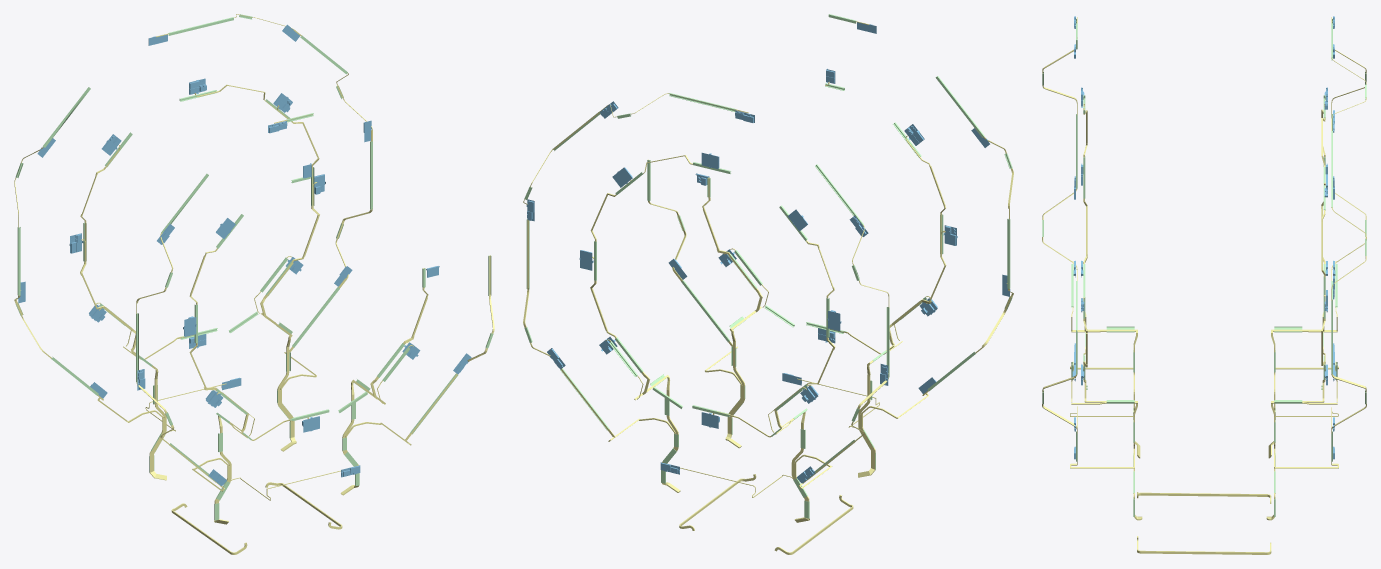
The model's file is MSPatchPannel-cut4.glb.
3 views of the same model, side by side, from view 1: azimuth 30°, elevation 25°; view 2: azimuth 150°, elevation 25°; view 3: azimuth 270°, elevation 25° (orthographic). The views are drawn at different scales.
Parts seen in each view (by area): view 1: _00000207802AF3B0_IndexedFaceSet, _00000207802A7C40_IndexedFaceSet, _0000020780176150_IndexedFaceSet; view 2: _00000207802AF3B0_IndexedFaceSet, _00000207802A7C40_IndexedFaceSet, _0000020780176150_IndexedFaceSet; view 3: _00000207802AF3B0_IndexedFaceSet, _00000207802A7C40_IndexedFaceSet, _0000020780176150_IndexedFaceSet.
Part boxes in pixels (<box>): _00000207802AF3B0_IndexedFaceSet: <box>14,14,494,554</box>; _00000207802A7C40_IndexedFaceSet: <box>15,14,493,520</box>; _0000020780176150_IndexedFaceSet: <box>18,24,471,485</box>; _00000207802AF3B0_IndexedFaceSet: <box>523,21,1013,554</box>; _00000207802A7C40_IndexedFaceSet: <box>524,14,1012,518</box>; _0000020780176150_IndexedFaceSet: <box>526,22,1010,483</box>; _00000207802AF3B0_IndexedFaceSet: <box>1042,17,1366,554</box>; _00000207802A7C40_IndexedFaceSet: <box>1042,18,1366,516</box>; _0000020780176150_IndexedFaceSet: <box>1072,16,1336,459</box>.
Size of the model in its own units: 18.02 by 21.89 by 13.24.
